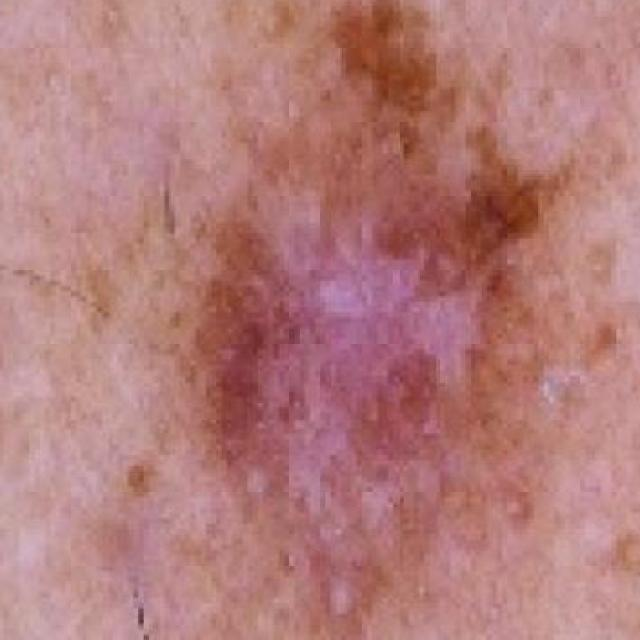DF: (149, 0, 640, 640)
